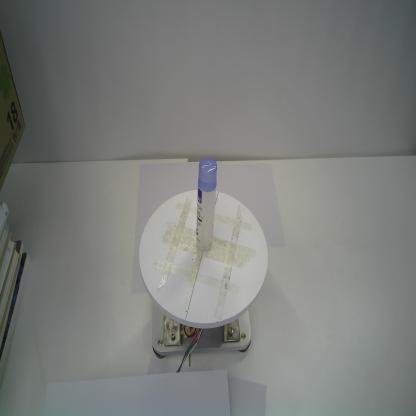Stationery: (195, 155, 218, 254)
